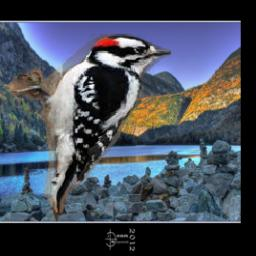Woodpecker: (9, 35, 171, 213)
